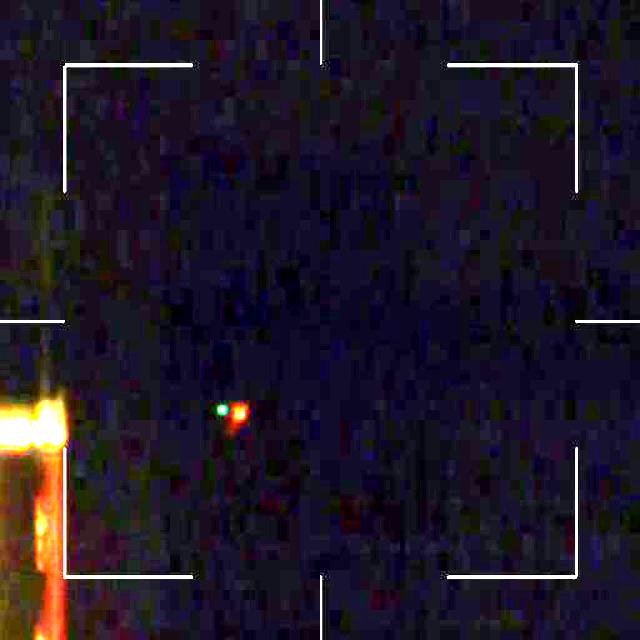bird: (215, 396, 249, 439)
